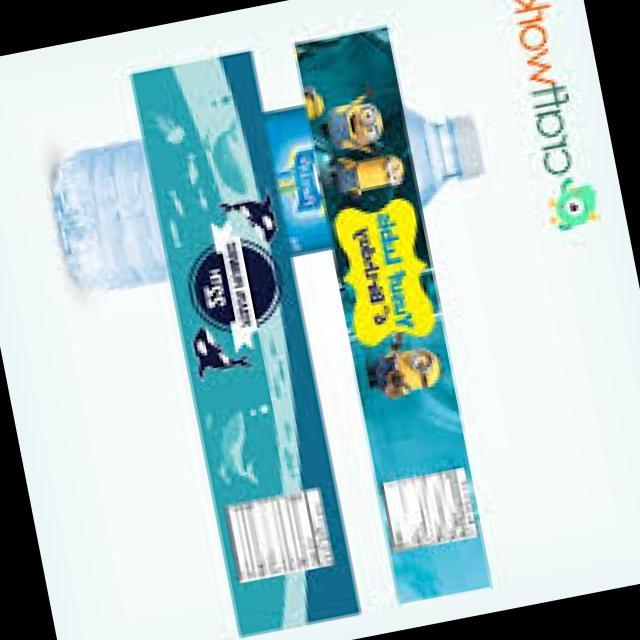good: (32, 55, 500, 302)
